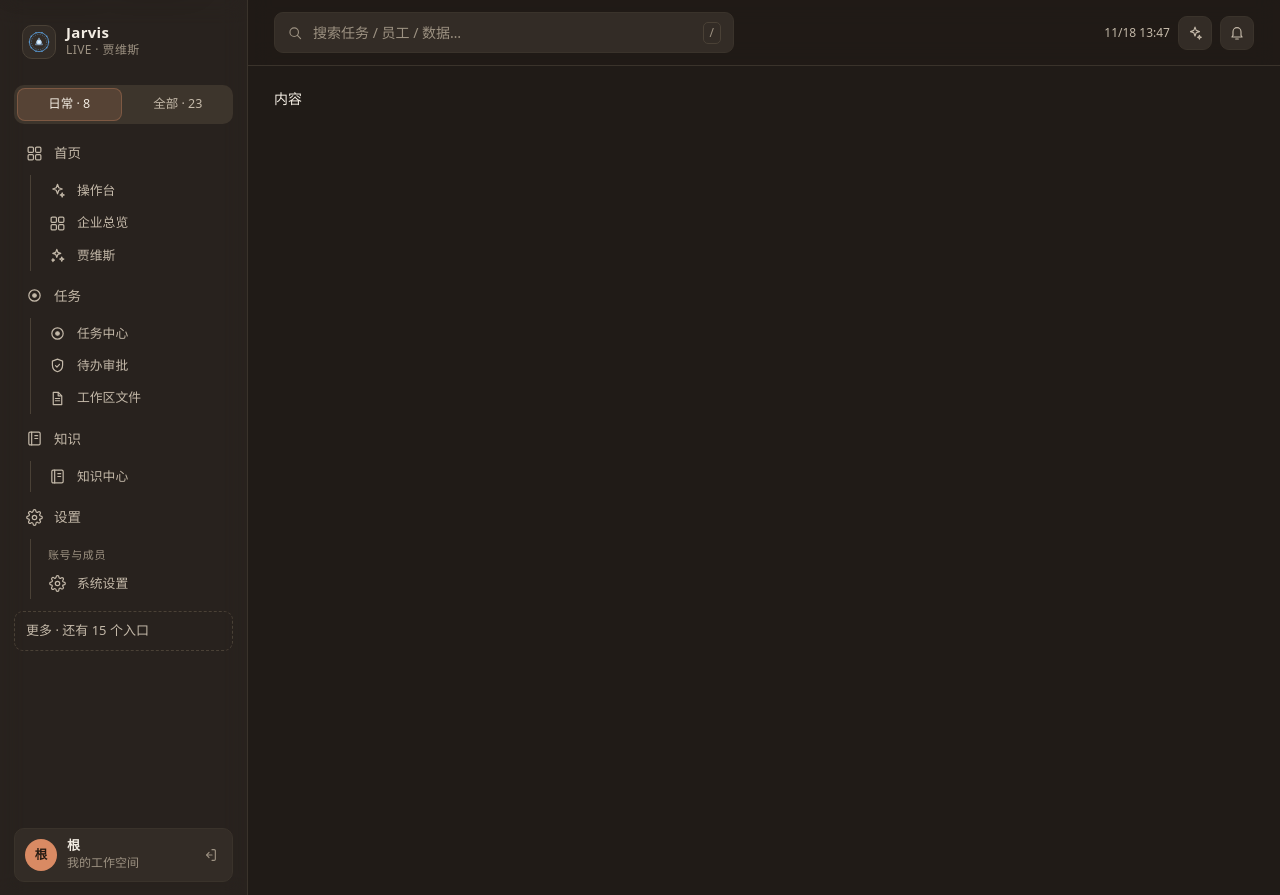
Test case: 日常 / 全部切换（2026-11 收小） › 点「更多」展开全部入口，再点「日常」收回去；选择会记下来
Click the button "更多 · 还有 15 个入口" at (124, 631), box [14,611,233,650]
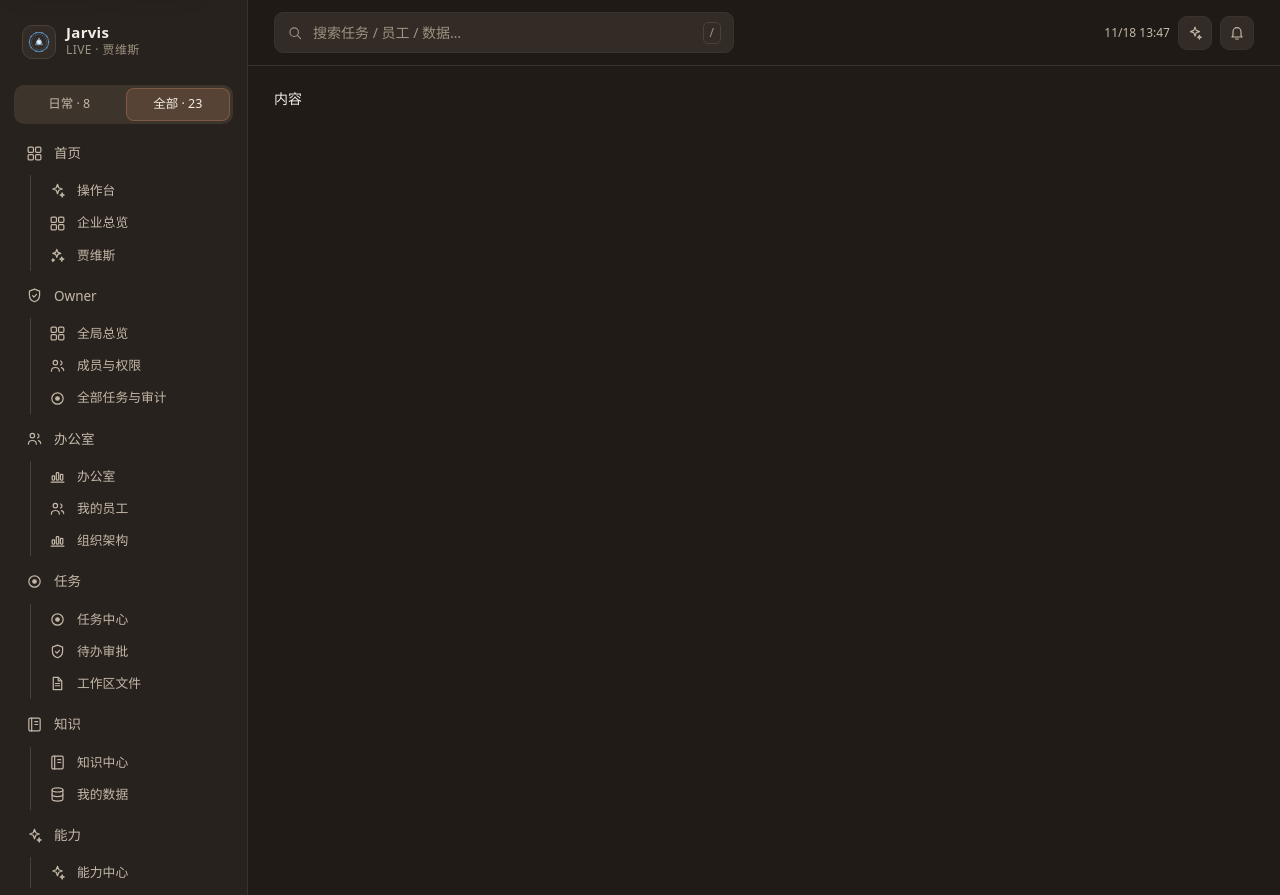
Expected: the text "成员与权限" is shown, [77,356,141,374]
Expected: the text "全部任务与审计" is shown, [77,388,167,406]
Expected: the button "更多" is gone
Click the button "日常 · 8" at (69, 105), box [17,88,122,121]
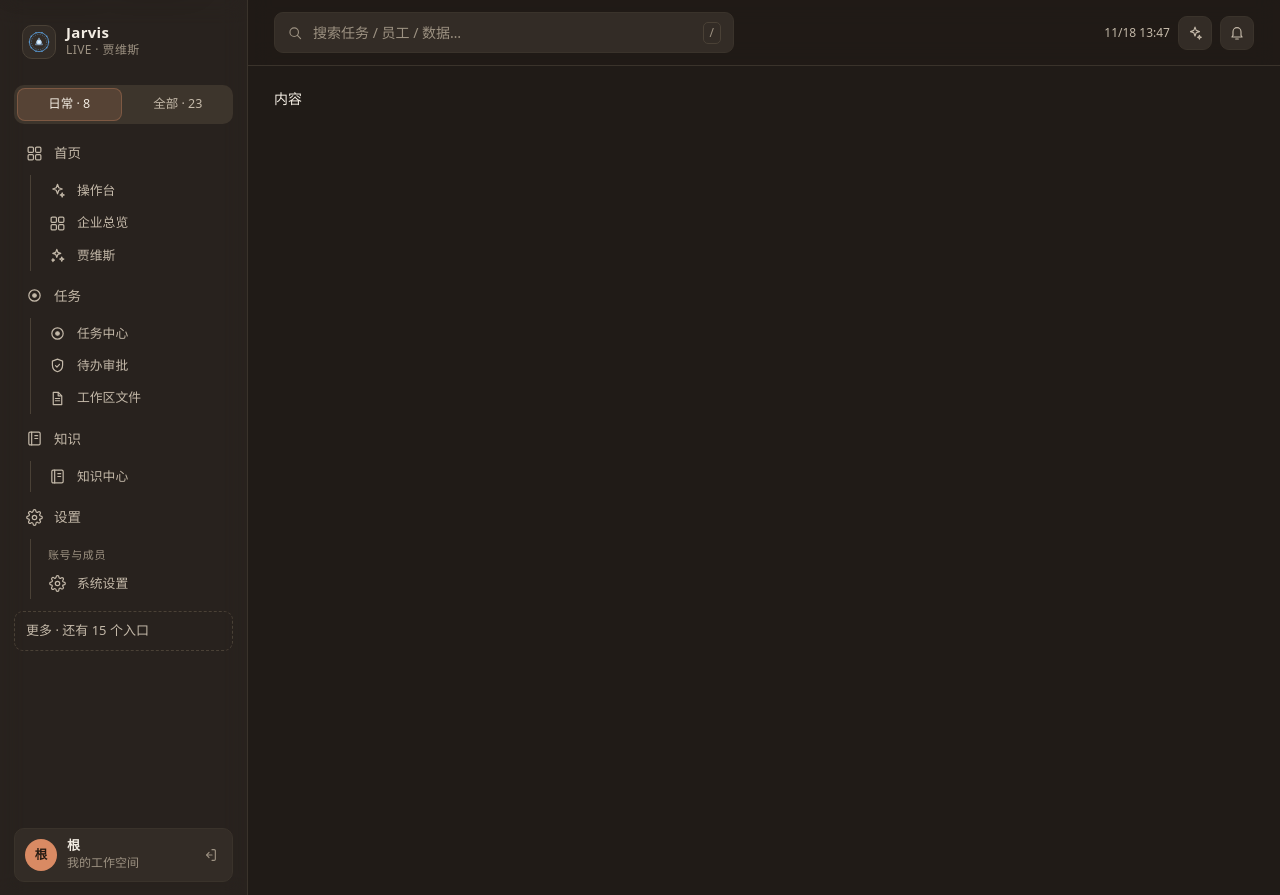
Expected: the button "成员与权限" is gone
Expected: the button "更多 · 还有 15 个入口" is shown, [14,611,233,650]
